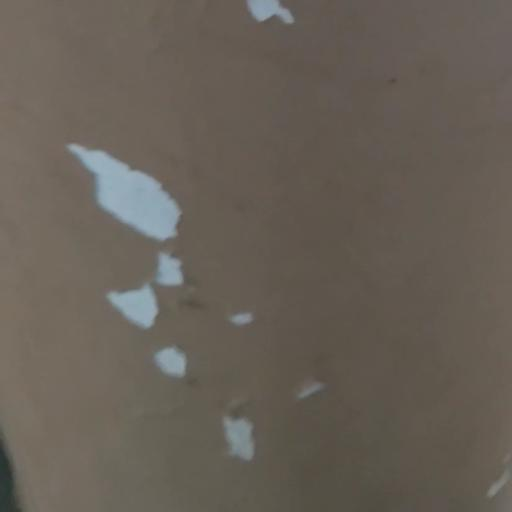peeling: (57, 135, 330, 466), (237, 0, 308, 50), (479, 449, 512, 503)
